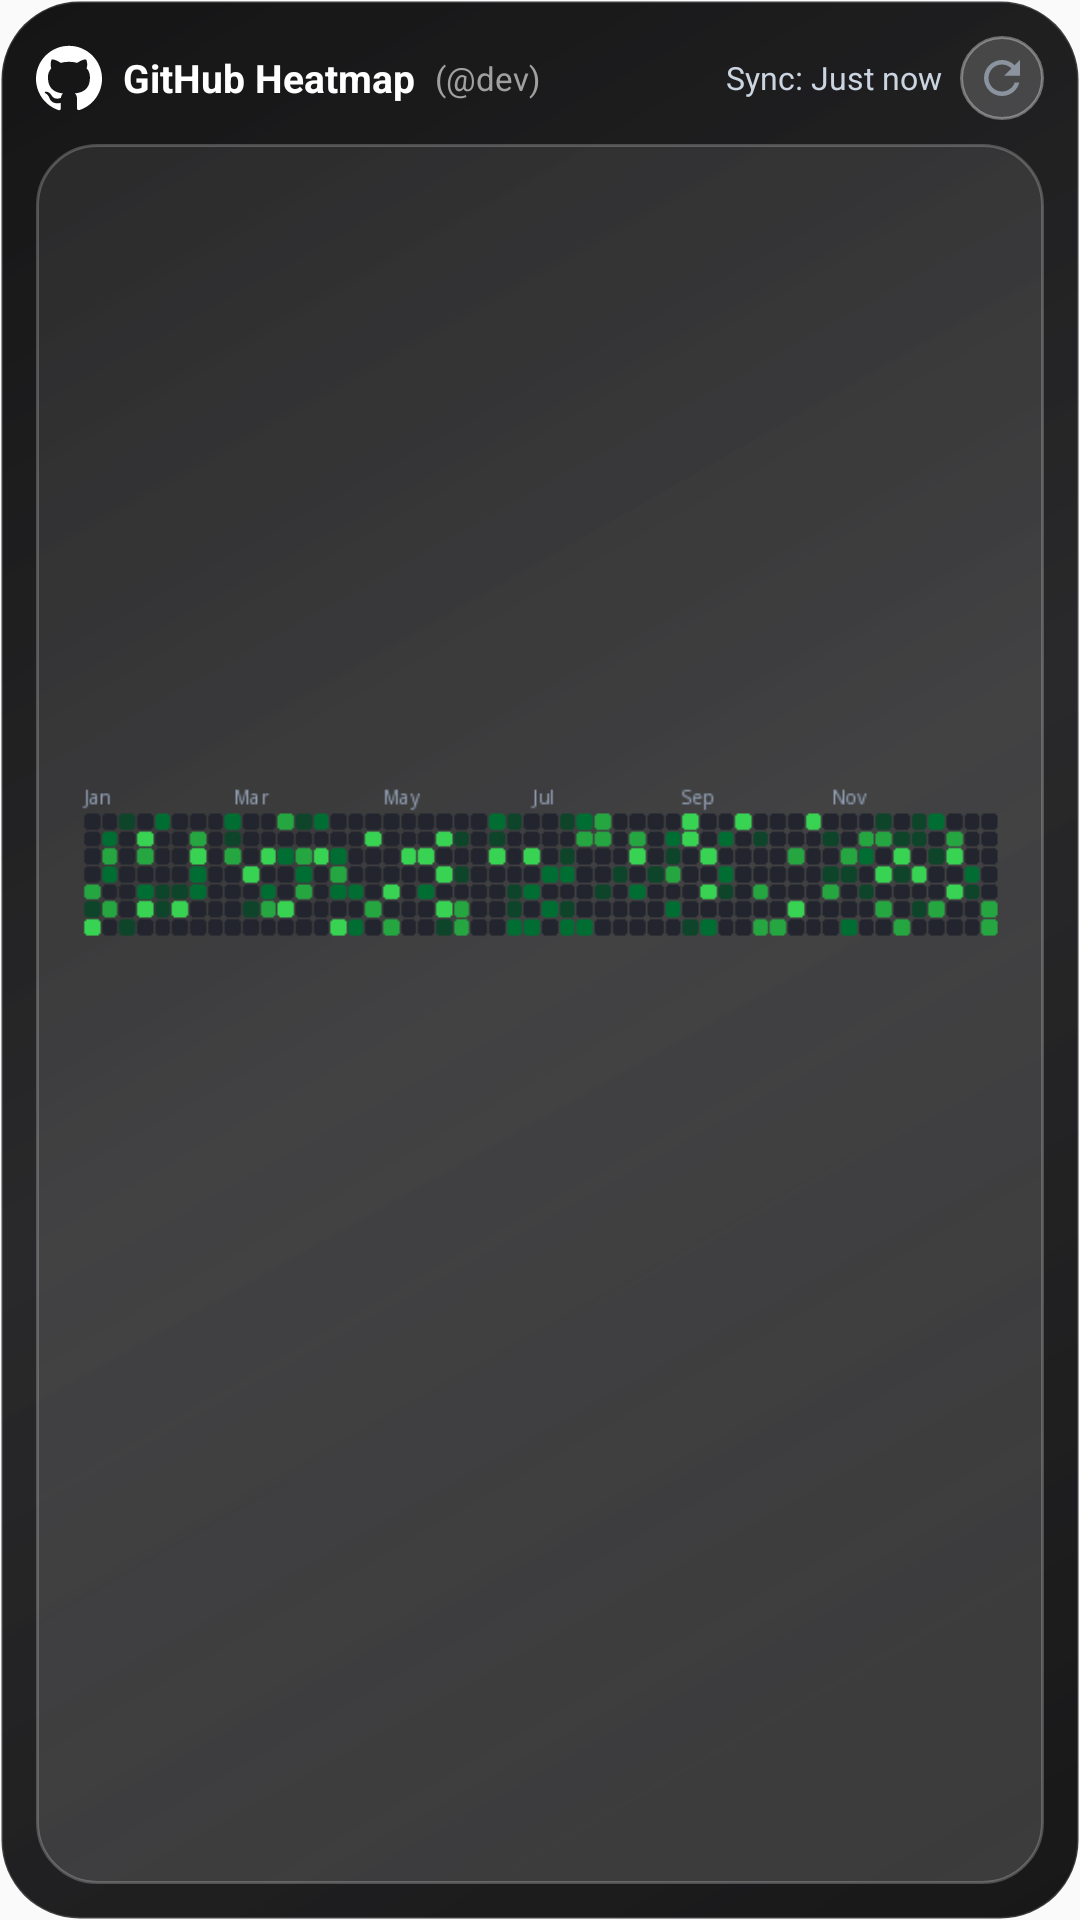

Locate icon controls on the screen. Image size 1080x1920, boxes as (x1, y1, x2, y2).
Refresh: (960, 36, 1044, 120)
